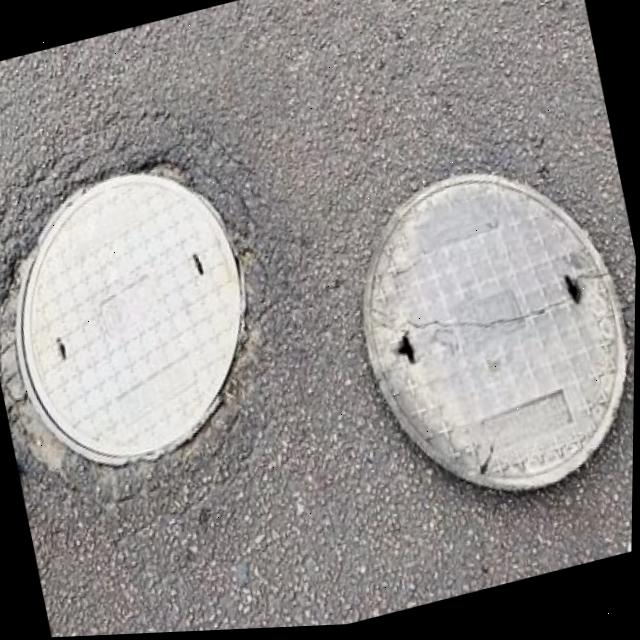manhole: (323, 133, 638, 544)
